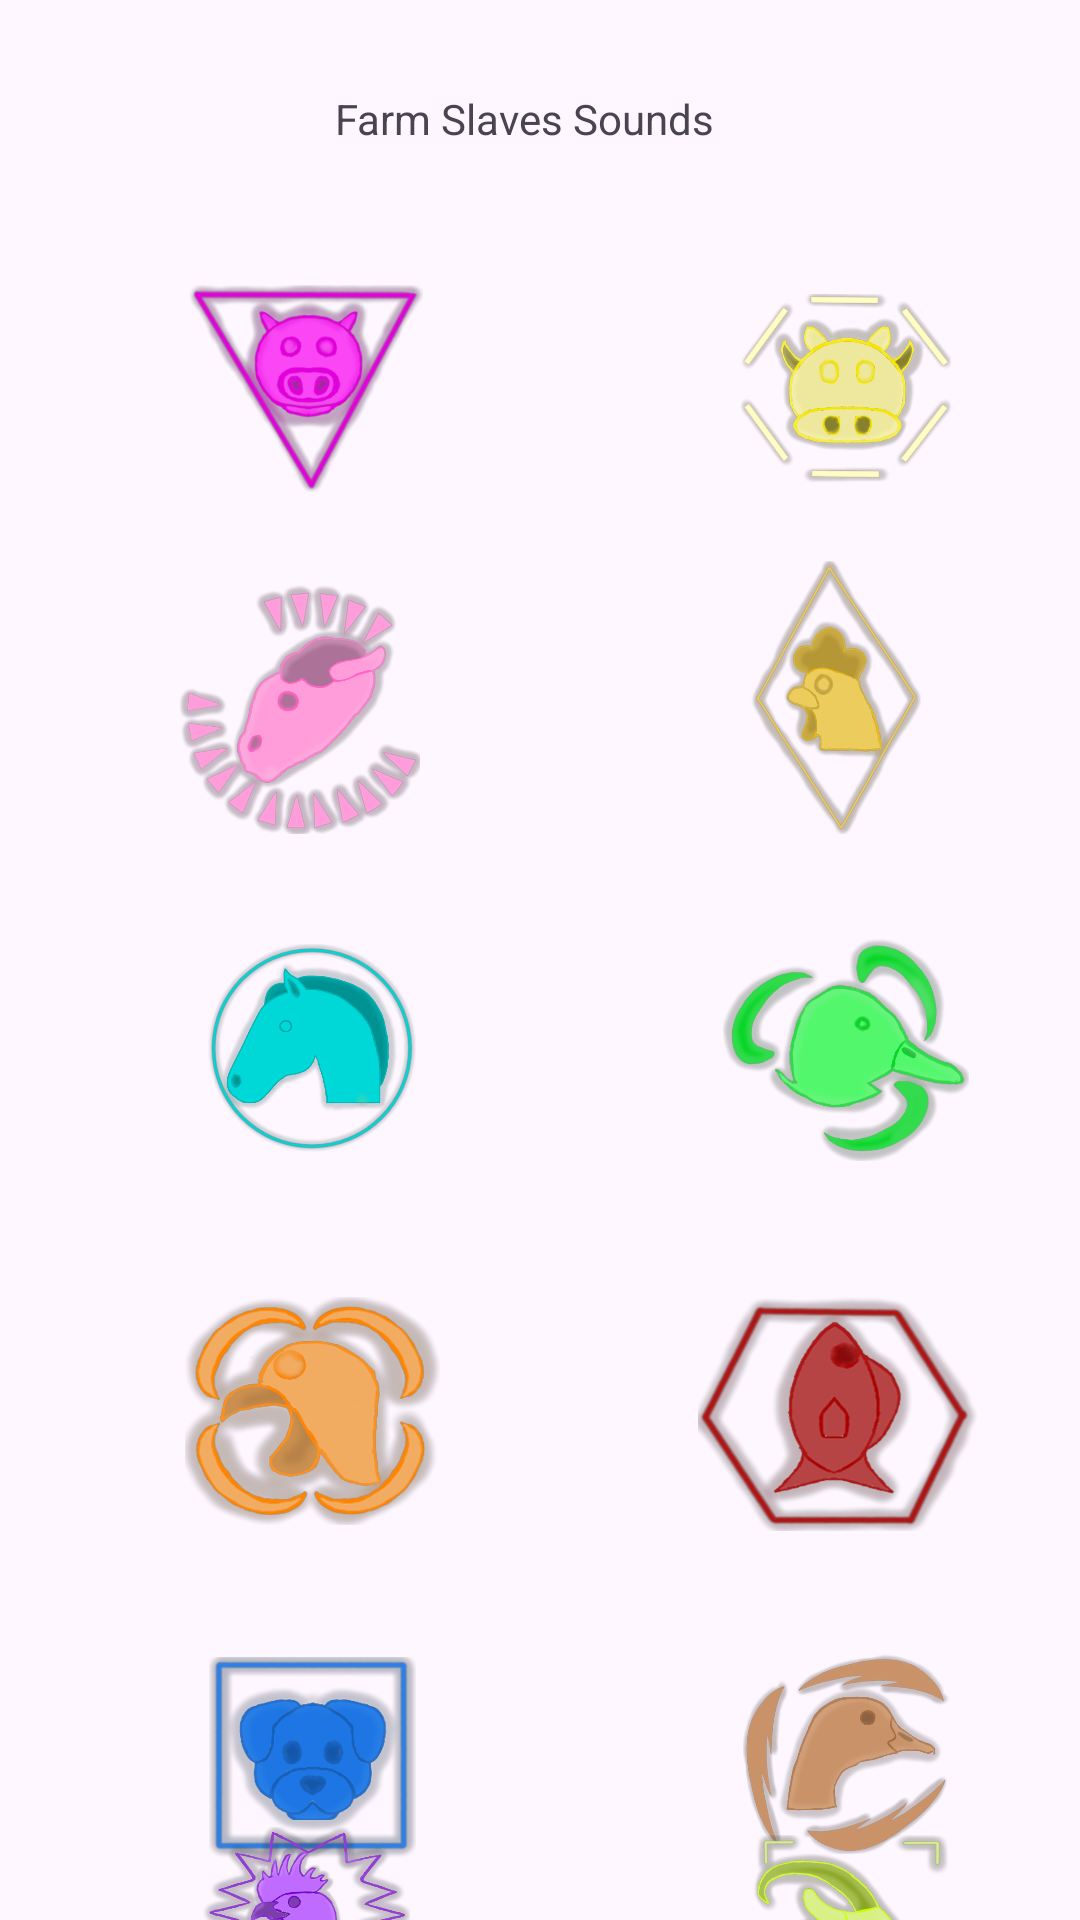

Icons on this 1080*1920 Android screen, each with the point to tap as (x,y):
btnimage quack chicken: (836,697)
btnimage quack cow: (846,387)
btnimage quack dog: (312,1757)
btnimage quack duck: (846,1050)
btnimage quack fish: (836,1415)
btnimage quack goose: (864,1755)
btnimage quack horse: (312,1047)
btnimage quack pig: (306,388)
